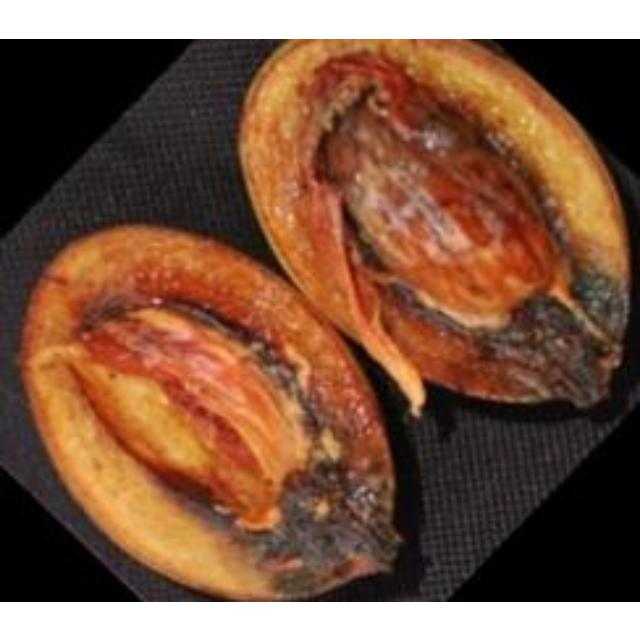damaged: (239, 38, 627, 410), (24, 224, 399, 597)
